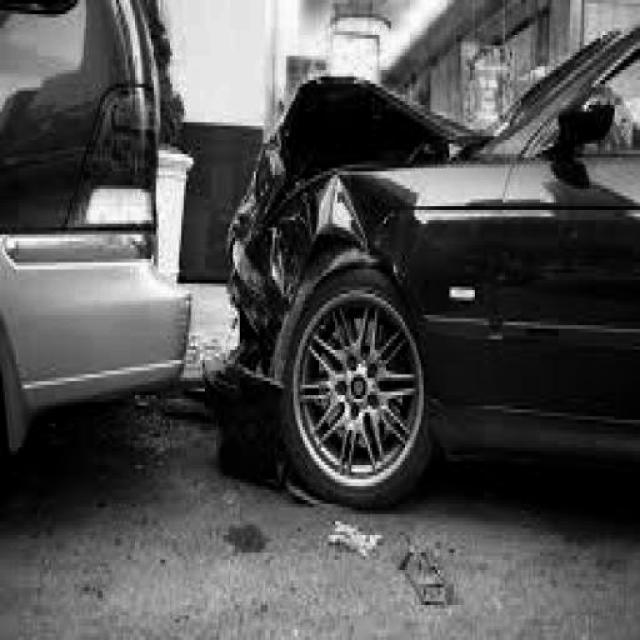car damage: (195, 80, 477, 402)
